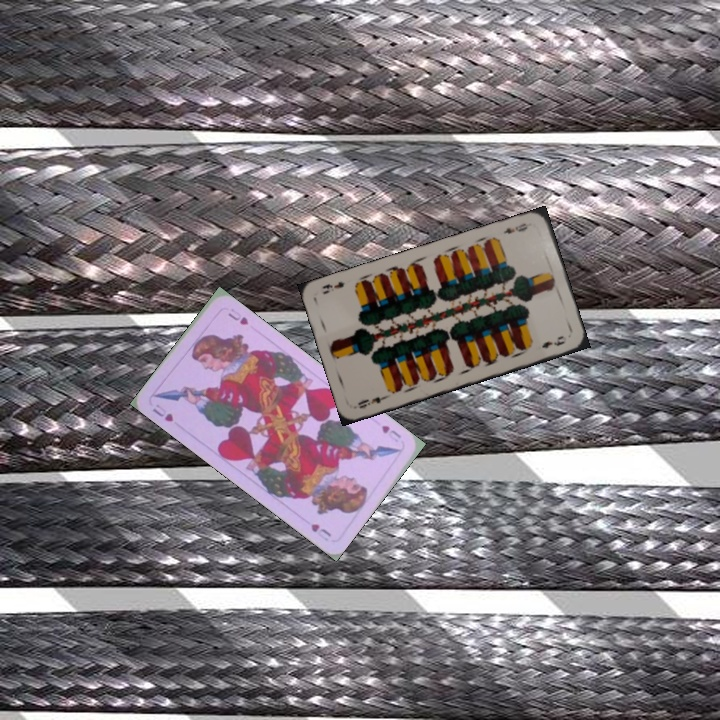E9: (354, 391, 391, 411), (499, 218, 534, 236)
HU: (148, 400, 176, 424), (377, 421, 404, 445)
